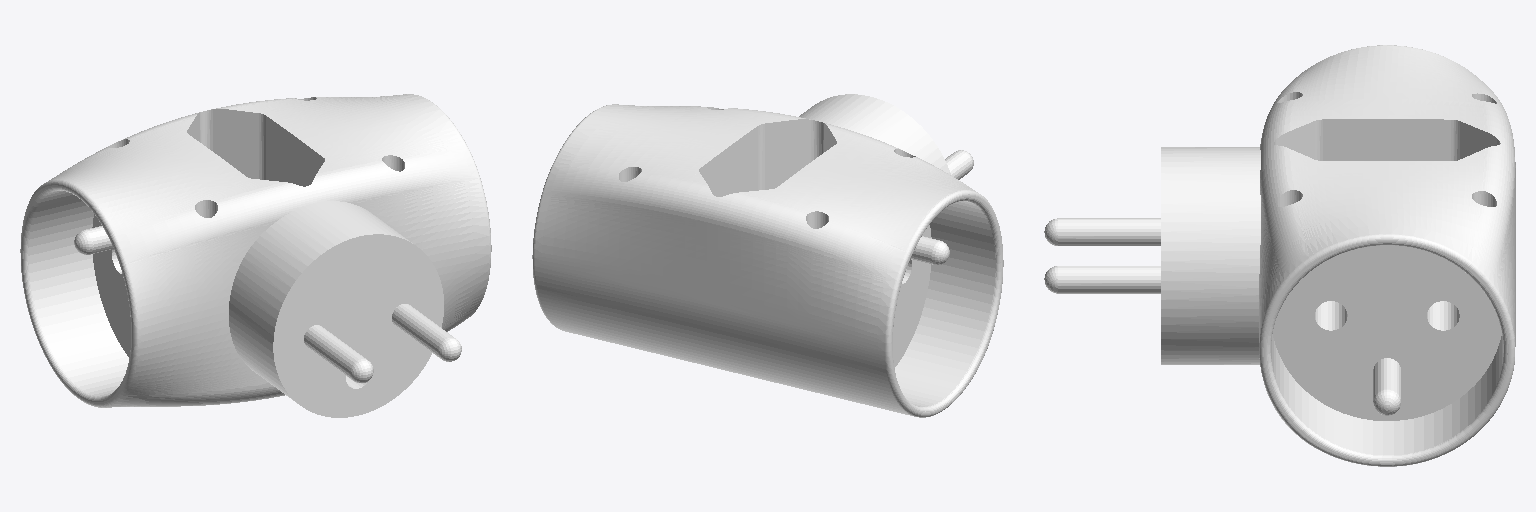
URDF robot description (obj_000021):
<?xml version="1.0" ?>
<robot name="obj_000021">
   <link name="base_link">
      <visual>
         <geometry>
            <mesh filename="package://agimus_demo_05_pick_and_place/urdf/tless/obj_21.obj" scale="0.001 0.001 0.001"/>
         </geometry>
         <material name="mat_part0">
            <color rgba="1.0 1.0 1.0 1.0"/>
         </material>
      </visual>
      <collision>
         <geometry>
            <mesh filename="package://agimus_demo_05_pick_and_place/urdf/tless/obj_21.obj" scale="0.001 0.001 0.001"/>
         </geometry>
      </collision>
      <inertial>
         <origin rpy="0 0 0" xyz="0.0 0.0 0.0"/>
         <mass value="0.1"/>
         <inertia ixx="1" ixy="0" ixz="0" iyy="1" iyz="0" izz="1"/>
      </inertial>
   </link>
</robot>

--- Render facts (derived) ---
The picture shows the robot from 3 angles, left to right: view 1: azimuth 30°, elevation 25°; view 2: azimuth 150°, elevation 25°; view 3: azimuth 270°, elevation 25°; orthographic projection.
Robot: obj_000021 — 1 links, 0 joints (none); root link base_link; default pose: all joints at 0.
Visible links, largest first — view 1: base_link; view 2: base_link; view 3: base_link.
Boxes of the visible links, box(x1,y1,x2,y2) form: base_link: box(20, 94, 491, 417); base_link: box(532, 94, 1003, 417); base_link: box(1044, 45, 1515, 466).
Bounding box of the posed robot: 0.0769 × 0.079 × 0.043 m (x, y, z).
1 mesh visuals loaded from 1 distinct referenced files (1 OBJ).
